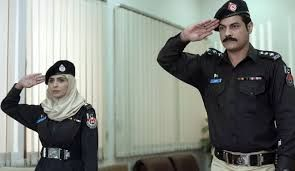uniform: (192, 21, 284, 168)
